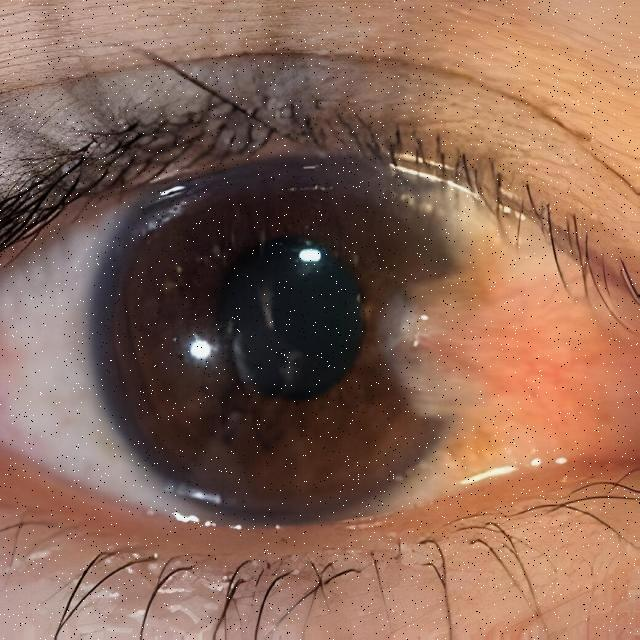Pterygium: (390, 234, 640, 482)
